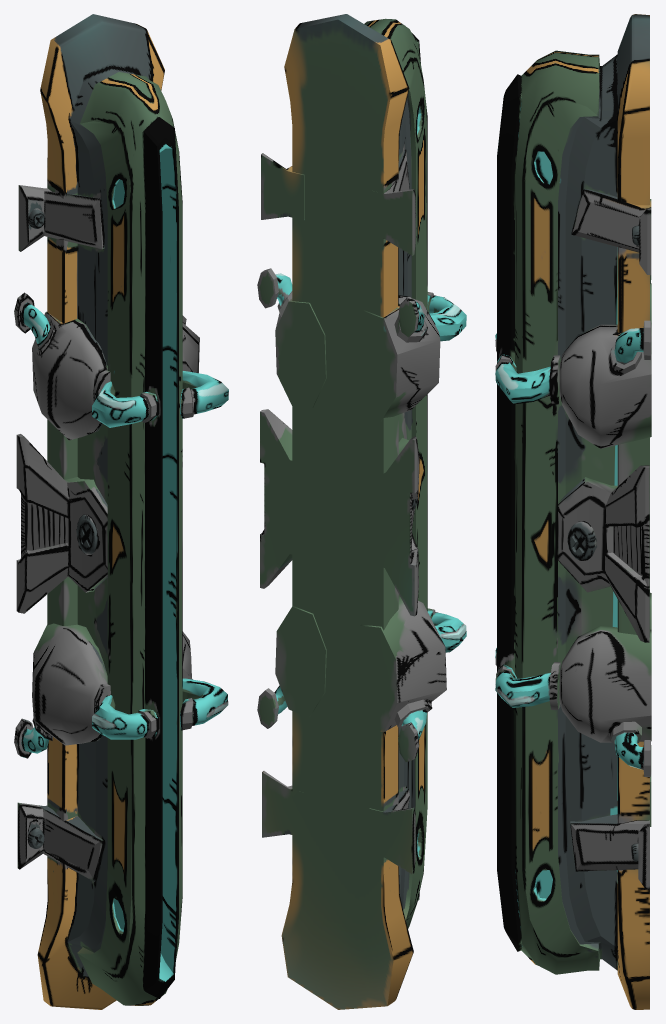
File: mshBarrierDef.fbx
3 views of the same model, side by side, from view 1: azimuth 30°, elevation 25°; view 2: azimuth 150°, elevation 25°; view 3: azimuth 270°, elevation 25° (orthographic).
Parts seen in each view (by area): view 1: antiplayer; view 2: antiplayer; view 3: antiplayer.
Boxes of the visible parts, <box> form: antiplayer: <box>14,14,228,1009</box>; antiplayer: <box>257,14,466,1009</box>; antiplayer: <box>495,14,651,1009</box>.
Bounding box in the file's own units: 59.43 × 339 × 48.65.
